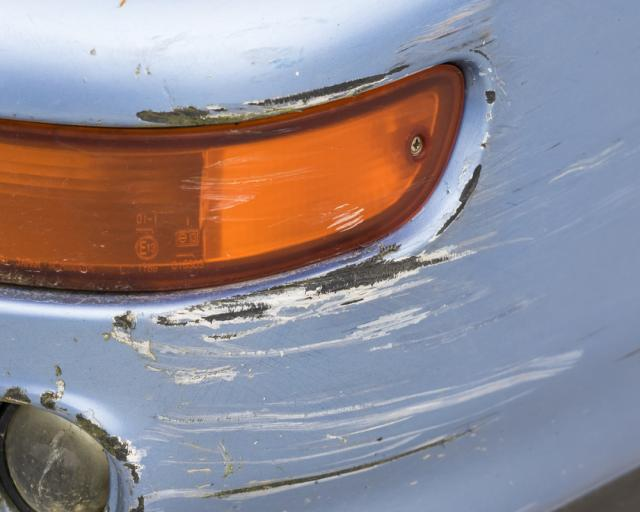scratch: (5, 0, 640, 512)
